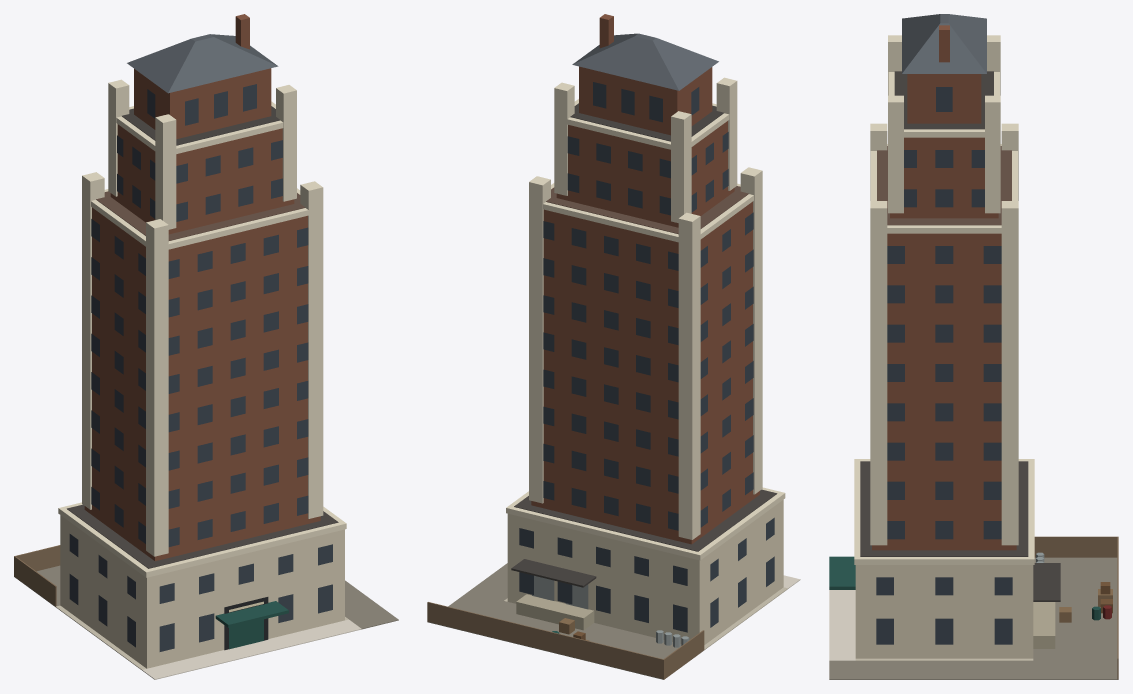
Rendered from aptower_m.glb.
3 renders of one model, left to right at view 1: azimuth 30°, elevation 25°; view 2: azimuth 150°, elevation 25°; view 3: azimuth 270°, elevation 25°, orthographic. The views are drawn at different scales.
Visible parts, largest first — view 1: aptower_m; view 2: aptower_m; view 3: aptower_m.
Boxes of the visible parts, left/top/right/bottom form: aptower_m: left=14, top=14, right=398, bottom=679; aptower_m: left=427, top=14, right=800, bottom=679; aptower_m: left=829, top=14, right=1118, bottom=679.
Bounding box in the file's own units: 30 × 68.95 × 30.
